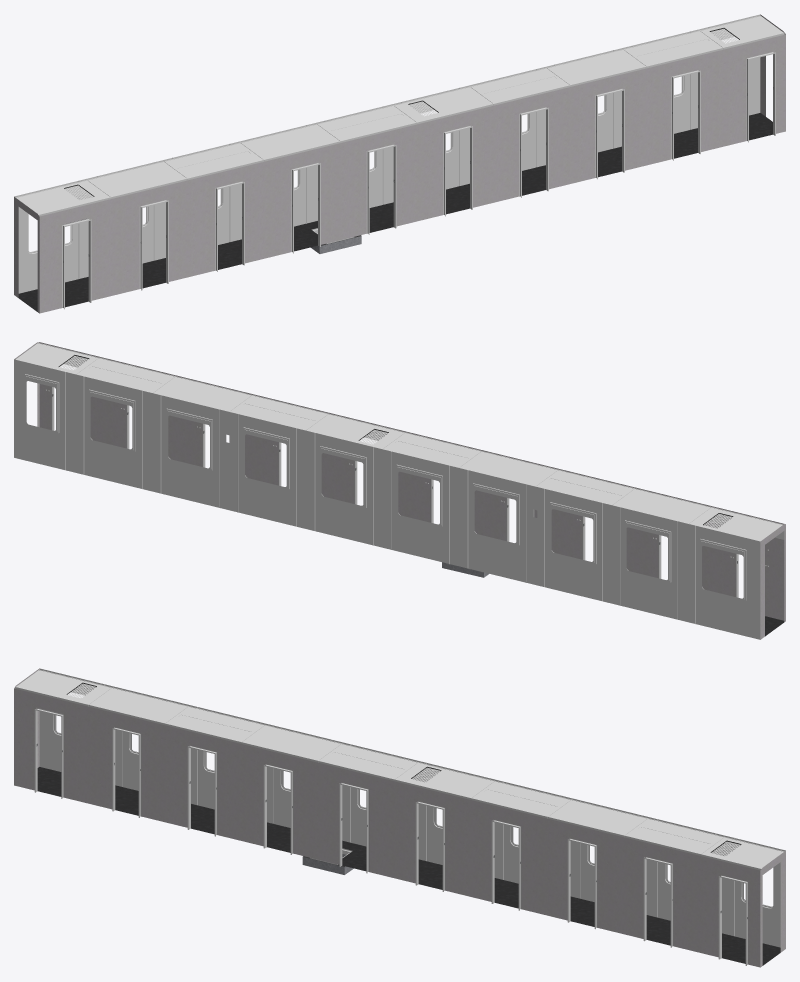
File: Vagon_body_inner_MainCorridor_01.fbx
3 renders of one model, top to bottom at view 1: azimuth 30°, elevation 25°; view 2: azimuth 150°, elevation 25°; view 3: azimuth 330°, elevation 25°, orthographic.
Parts seen in each view (by area): view 1: Vagon_body_inner_MainCorridor_01; view 2: Vagon_body_inner_MainCorridor_01; view 3: Vagon_body_inner_MainCorridor_01.
Boxes of the visible parts, bbox=[...] form: Vagon_body_inner_MainCorridor_01: bbox=[14, 14, 785, 313]; Vagon_body_inner_MainCorridor_01: bbox=[14, 342, 785, 639]; Vagon_body_inner_MainCorridor_01: bbox=[14, 668, 785, 967].
Bounding box in the file's own units: 115 × 1735 × 249.
